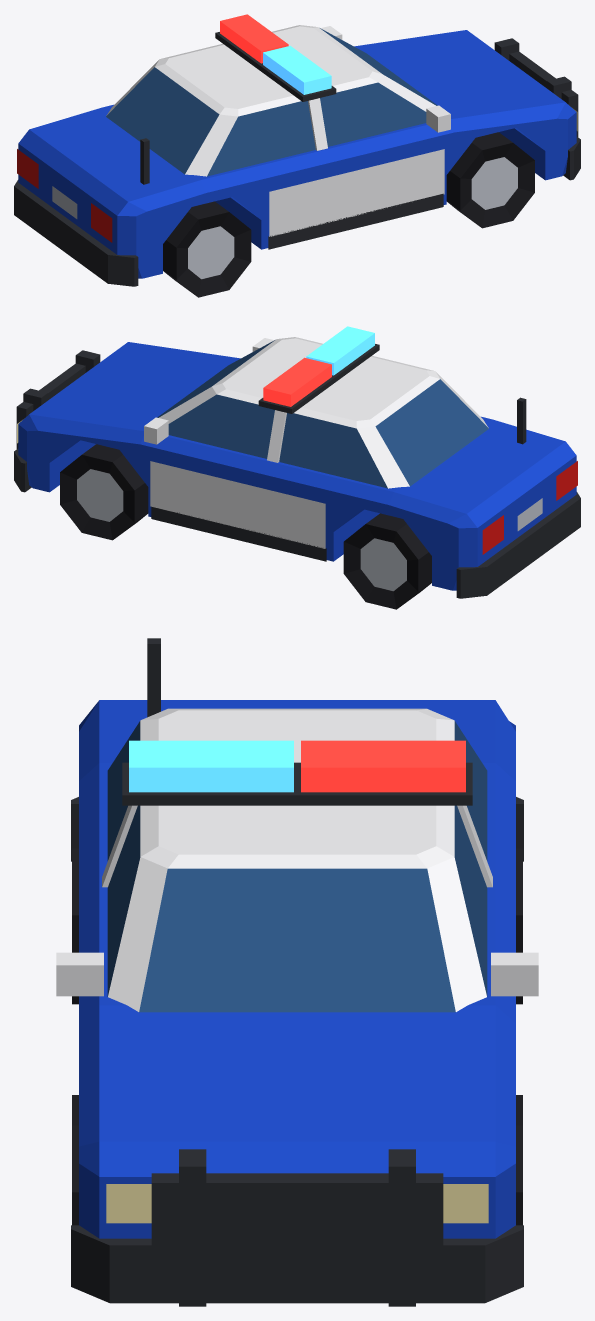
Rendered from police_car.glb.
3 renders of one model, top to bottom at view 1: azimuth 30°, elevation 25°; view 2: azimuth 150°, elevation 25°; view 3: azimuth 270°, elevation 25°, orthographic. The views are drawn at different scales.
Visible parts, largest first — view 1: Body; view 2: Body; view 3: Body.
Boxes of the visible parts, x1,y1,x2,y2 form: Body: (14,14,580,297); Body: (14,326,580,609); Body: (56,638,538,1306).
Bounding box in the file's own units: 0.488 × 0.17 × 0.212.
